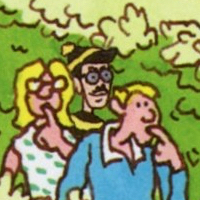odlaw: (75, 47, 111, 109)
